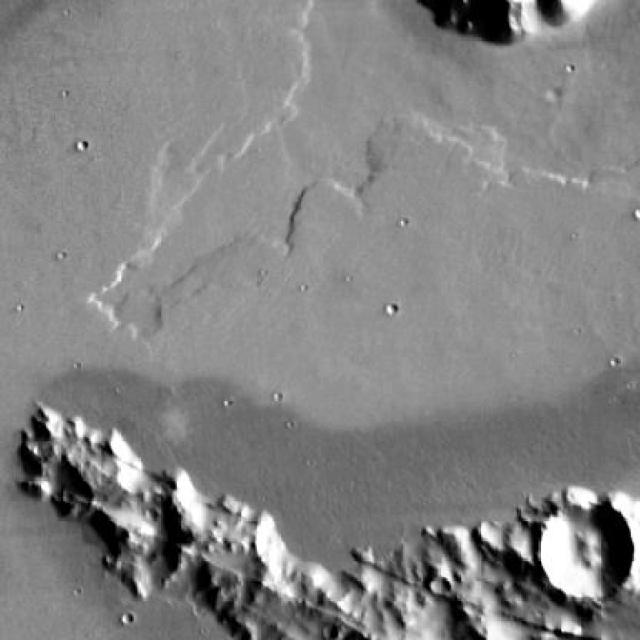crater: (517, 508, 621, 608), (411, 581, 431, 599)
